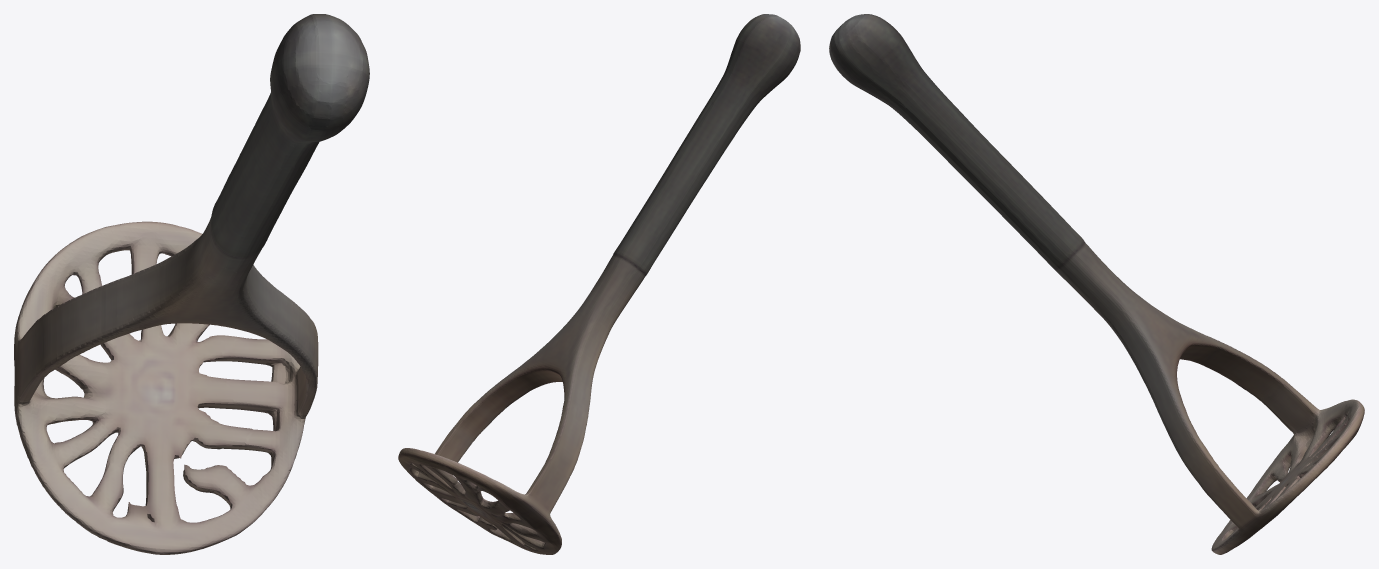
Rendered from frame_0048_source_000048_object.glb.
3 views of the same model, side by side, from view 1: azimuth 30°, elevation 25°; view 2: azimuth 150°, elevation 25°; view 3: azimuth 270°, elevation 25° (orthographic). The views are drawn at different scales.
Visible parts, largest first — view 1: world; view 2: world; view 3: world.
Boxes of the visible parts, <box> form: world: <box>14,14,369,554</box>; world: <box>398,14,800,554</box>; world: <box>829,14,1364,554</box>.
Bounding box in the file's own units: 0.0982 × 0.2078 × 0.2088.
